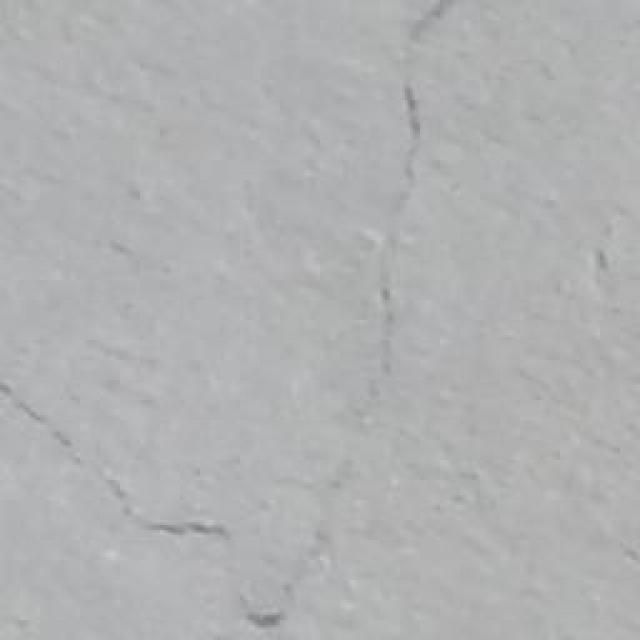concrete-crack: (3, 0, 462, 632)
